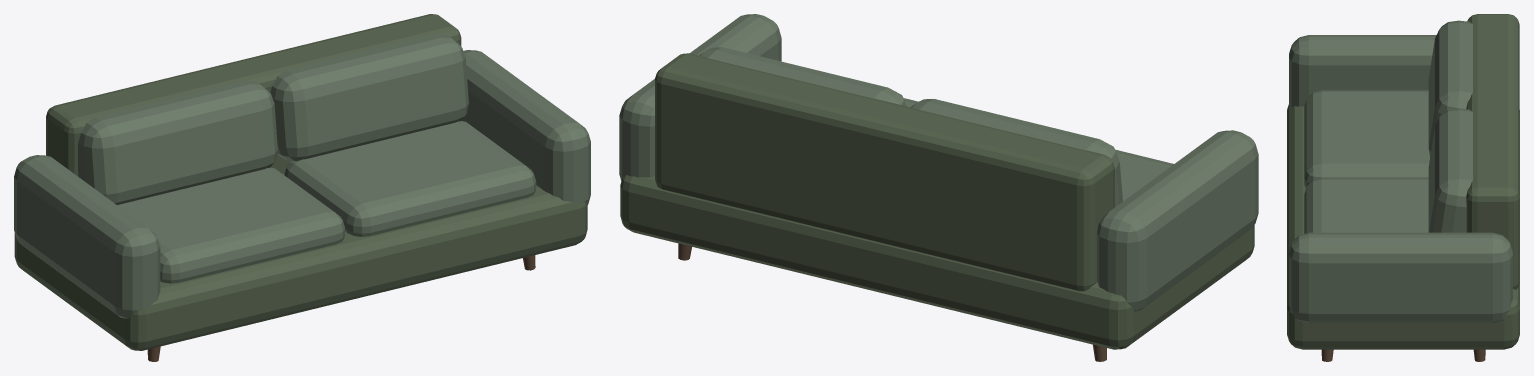
File: sofa-moss.glb
The picture shows the model from 3 angles, left to right: view 1: azimuth 30°, elevation 25°; view 2: azimuth 150°, elevation 25°; view 3: azimuth 270°, elevation 25°; orthographic projection. The views are drawn at different scales.
Parts seen in each view (by area): view 1: sofa-moss; view 2: sofa-moss; view 3: sofa-moss.
Boxes of the visible parts, x1=… form: sofa-moss: x1=14, y1=14, x2=590, y2=361; sofa-moss: x1=619, y1=14, x2=1258, y2=361; sofa-moss: x1=1287, y1=14, x2=1519, y2=361.
Size of the model in its own units: 2.1 by 0.78 by 0.95.
